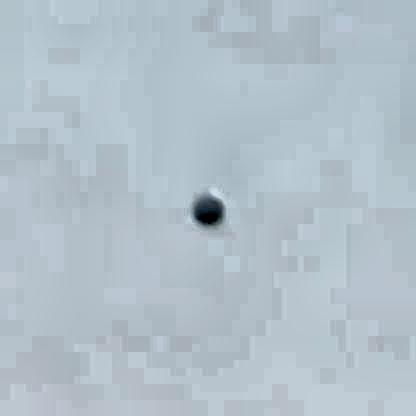golfball: (190, 183, 223, 222)
